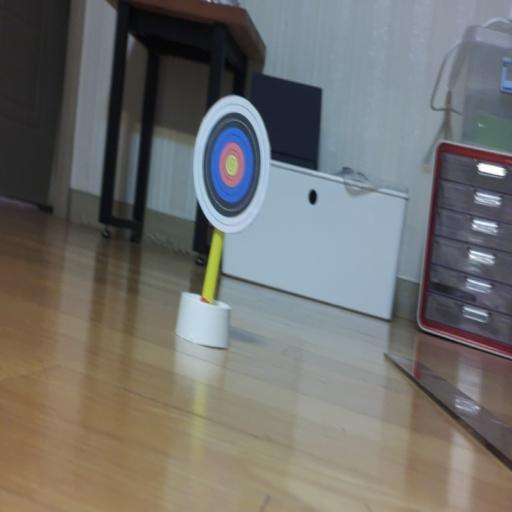target: (193, 95, 270, 233)
